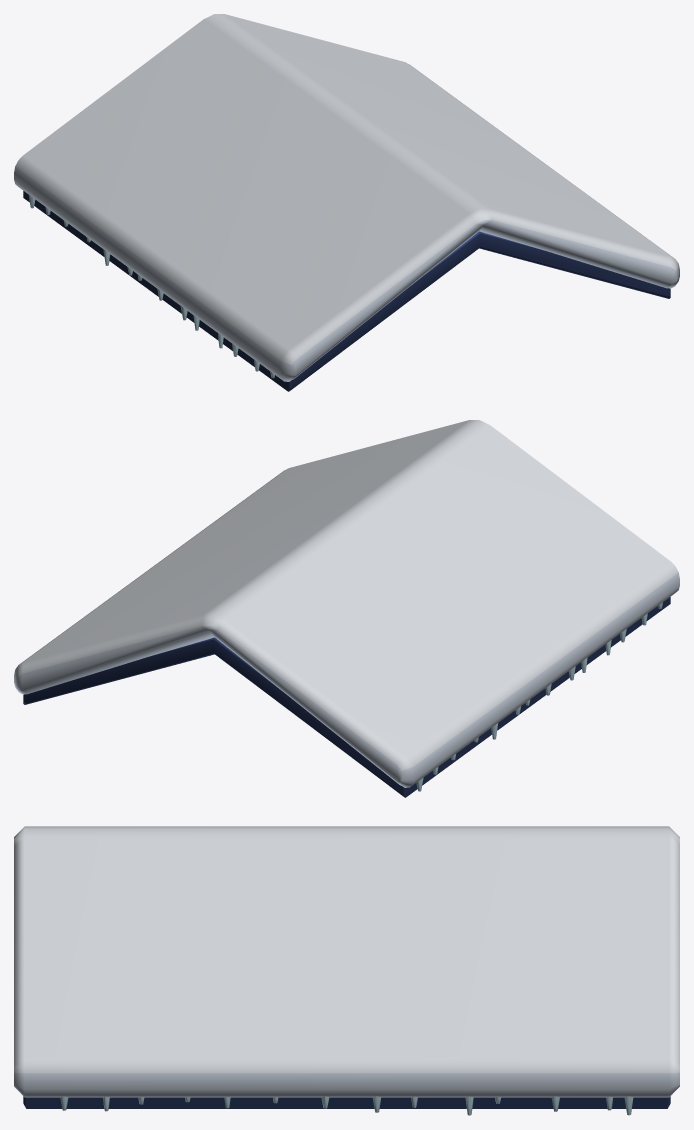
File: Garage_Roof.glb
3 renders of one model, top to bottom at view 1: azimuth 30°, elevation 25°; view 2: azimuth 150°, elevation 25°; view 3: azimuth 270°, elevation 25°, orthographic. The views are drawn at different scales.
Visible parts, largest first — view 1: Garage_Roof; view 2: Garage_Roof; view 3: Garage_Roof.
Boxes of the visible parts, <box> form: Garage_Roof: <box>14,14,679,391</box>; Garage_Roof: <box>14,420,679,797</box>; Garage_Roof: <box>14,826,679,1115</box>.
Size of the model in its own units: 18.2 by 6.11 by 21.6.
